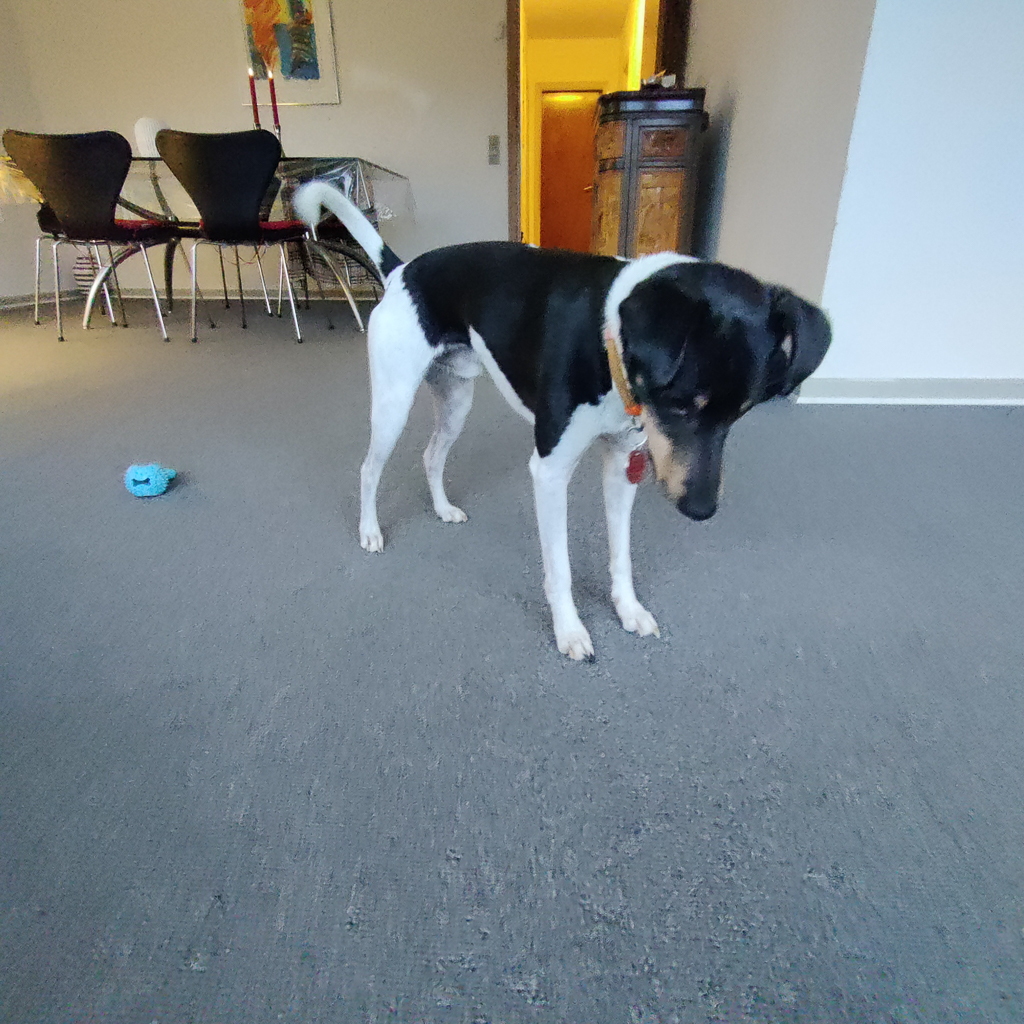Dog: (273, 154, 858, 688)
